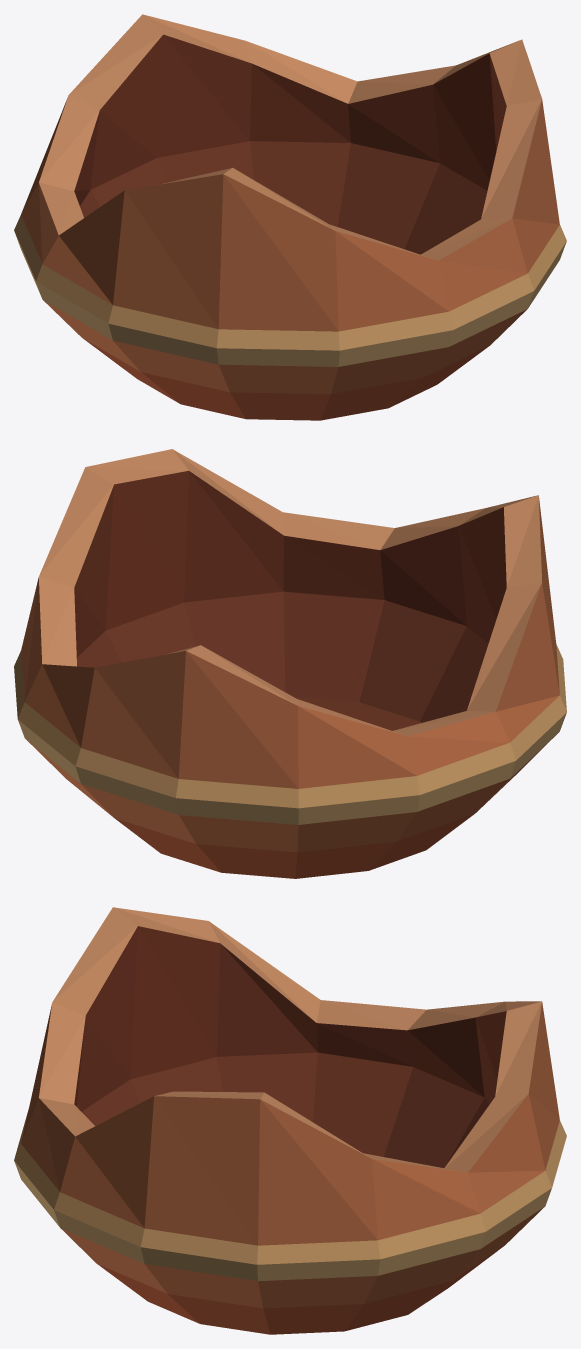
Rendered from oase_06.glb.
3 renders of one model, top to bottom at view 1: azimuth 30°, elevation 25°; view 2: azimuth 150°, elevation 25°; view 3: azimuth 270°, elevation 25°, orthographic.
Parts seen in each view (by area): view 1: oase_06; view 2: oase_06; view 3: oase_06.
Boxes of the visible parts, box(x1,y1,x2,y2) form: oase_06: box(14, 14, 566, 420); oase_06: box(14, 449, 566, 878); oase_06: box(14, 907, 566, 1334).
Size of the model in its own units: 2 by 1.12 by 2.
